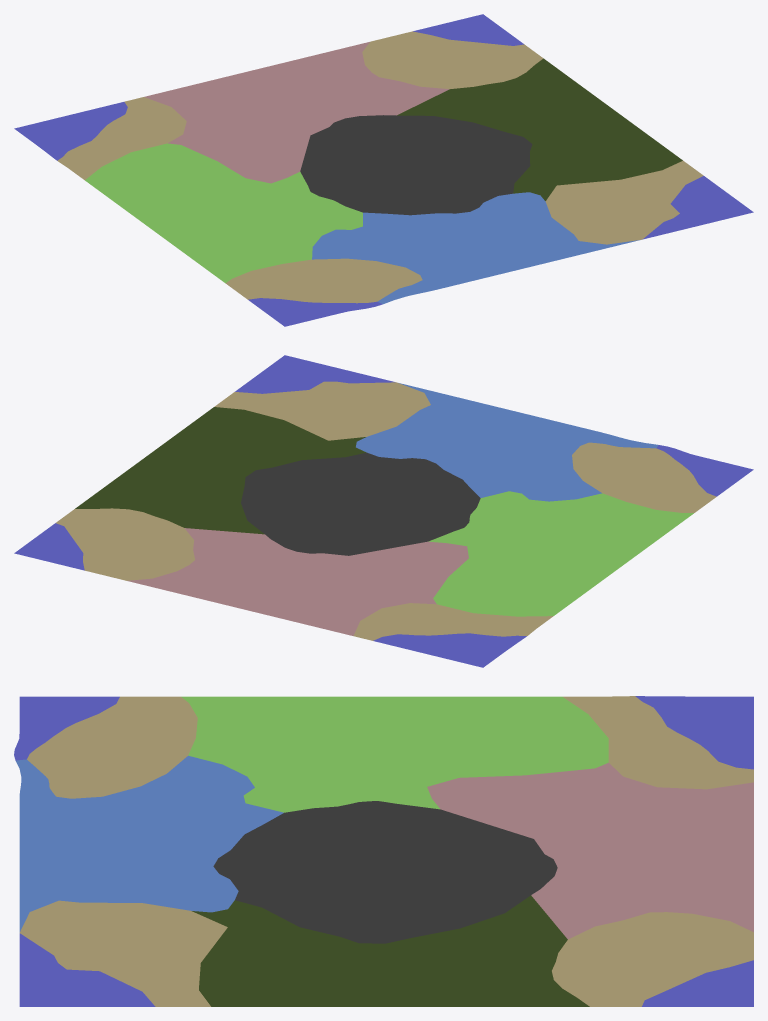
File: floor.fbx
3 views of the same model, one above another, from view 1: azimuth 30°, elevation 25°; view 2: azimuth 150°, elevation 25°; view 3: azimuth 270°, elevation 25° (orthographic). The views are drawn at different scales.
Visible parts, largest first — view 1: Cube; view 2: Cube; view 3: Cube.
Boxes of the visible parts, x1,y1,x2,y2 form: Cube: (14,14,753,326); Cube: (14,355,753,667); Cube: (14,696,753,1006).
Bounding box in the file's own units: 497 × 8.15e-05 × 500.
